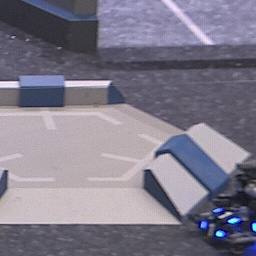Blue: (212, 206, 241, 226), (199, 218, 224, 240)
Robot: (198, 165, 256, 256)
